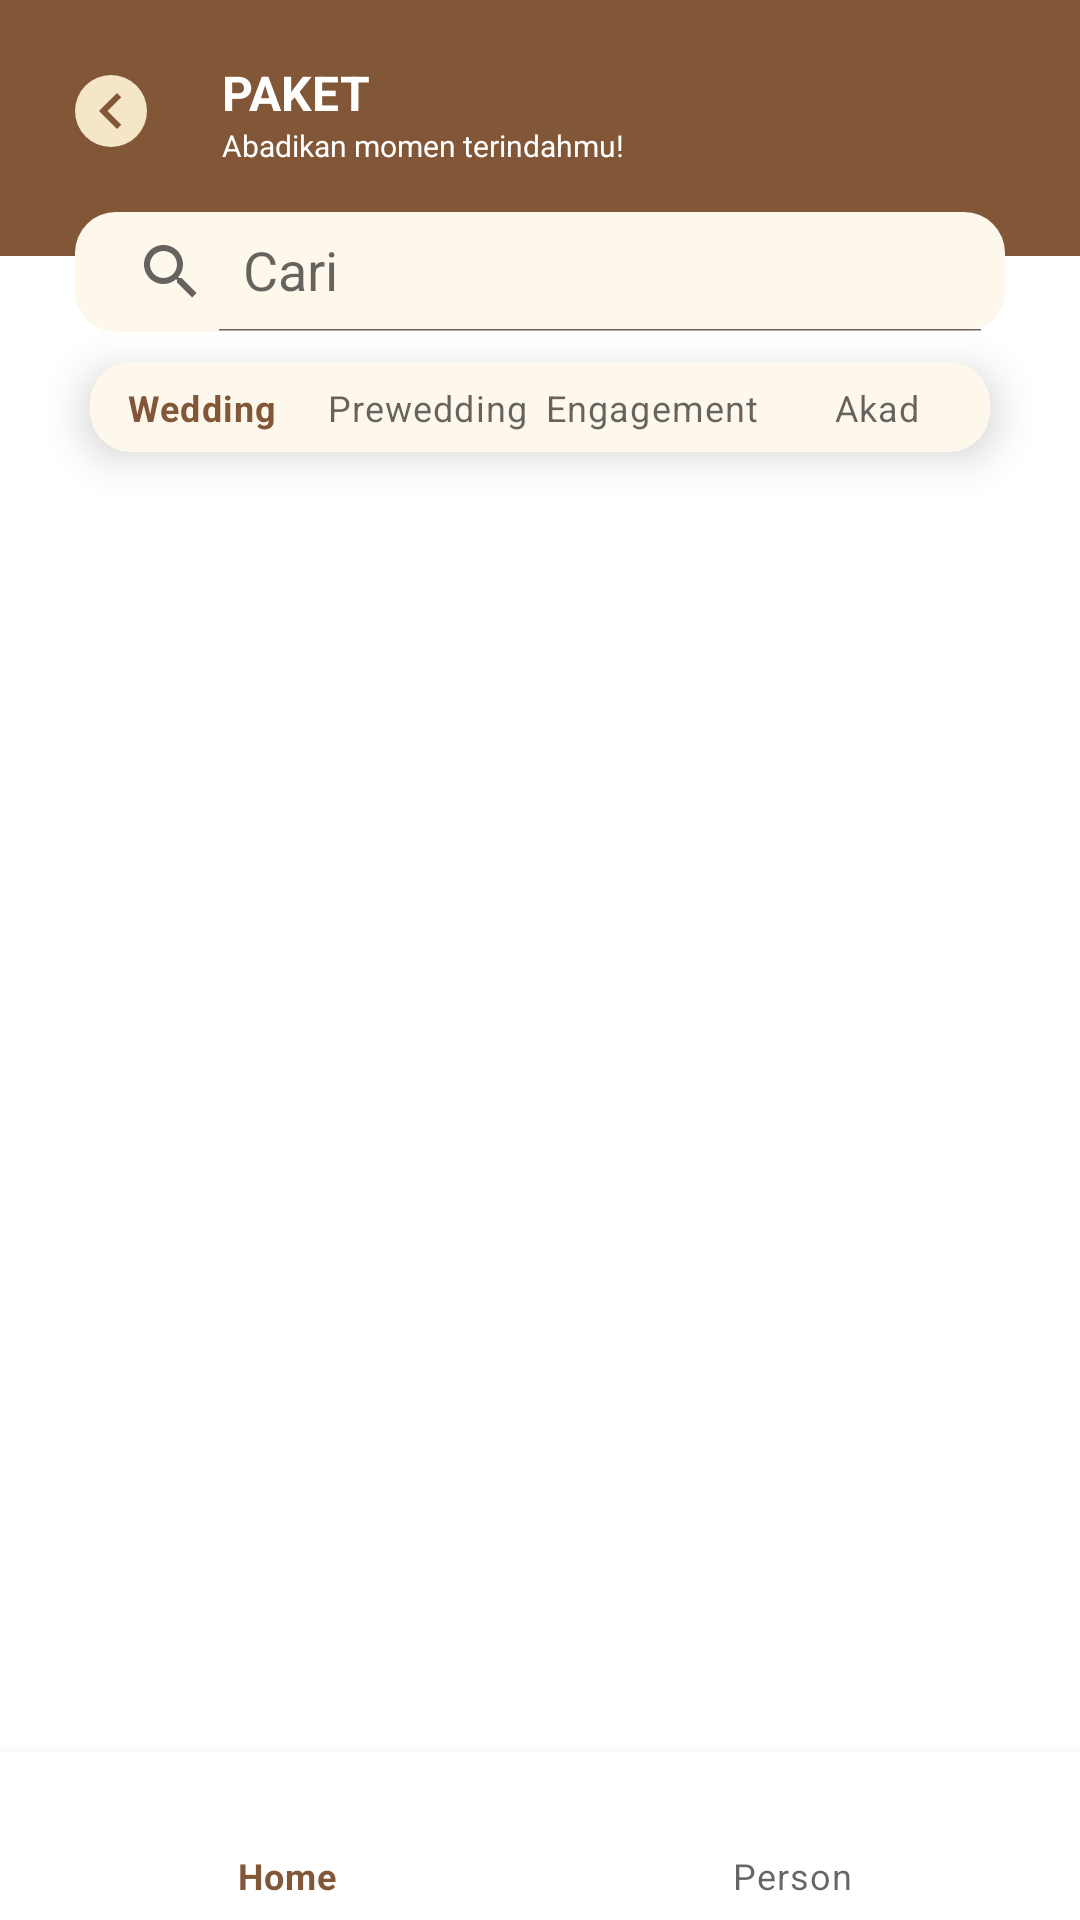

Icons on this 1080px×1920px Android screen, each with its box as (x1, y1, x2, y2):
chevron left: (75, 75, 147, 147)
